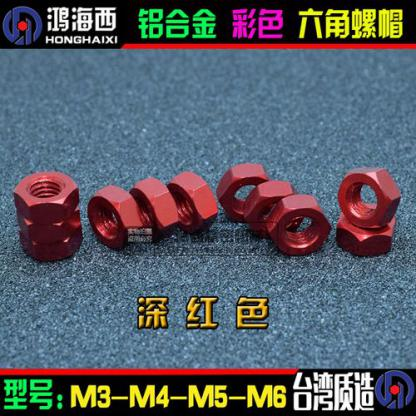FOD: (336, 161, 404, 231), (269, 193, 333, 258), (242, 178, 305, 236), (130, 175, 182, 243), (166, 168, 218, 236), (218, 160, 275, 222), (11, 166, 79, 217), (86, 183, 140, 246)
